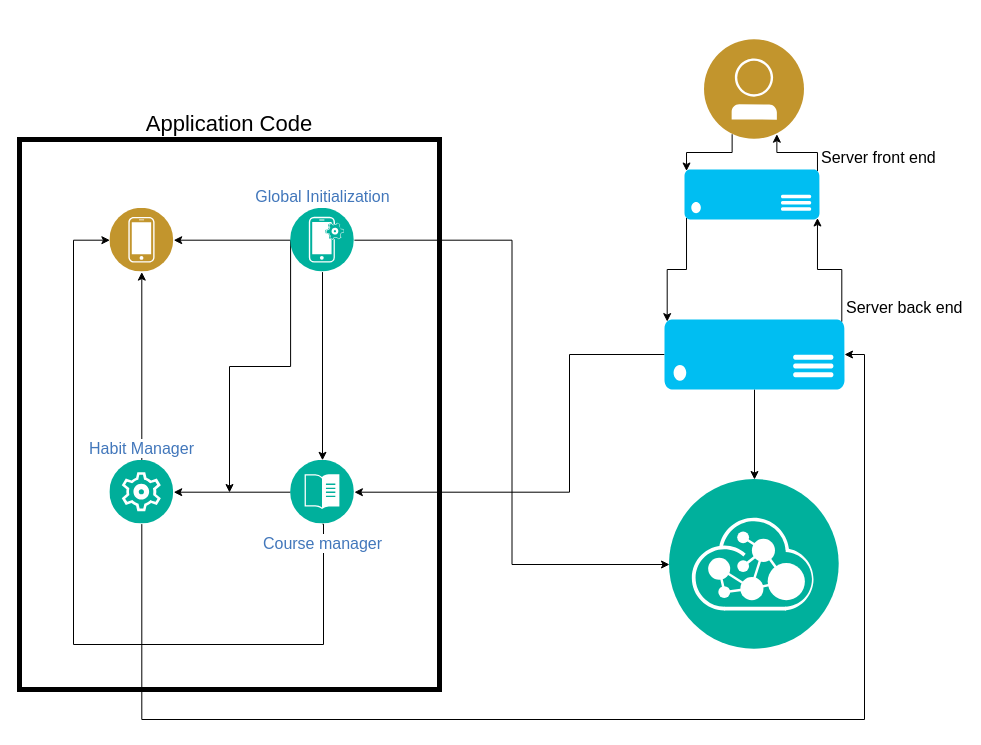
Image size: 981x745. Some labels were removed from this diagram. The centre of each missing label's shape, as x and y in pixels:
"App Owner" belongs at (x=754, y=89).
"Firebase" belongs at (x=754, y=564).
"UI elements" belongs at (x=141, y=240).
